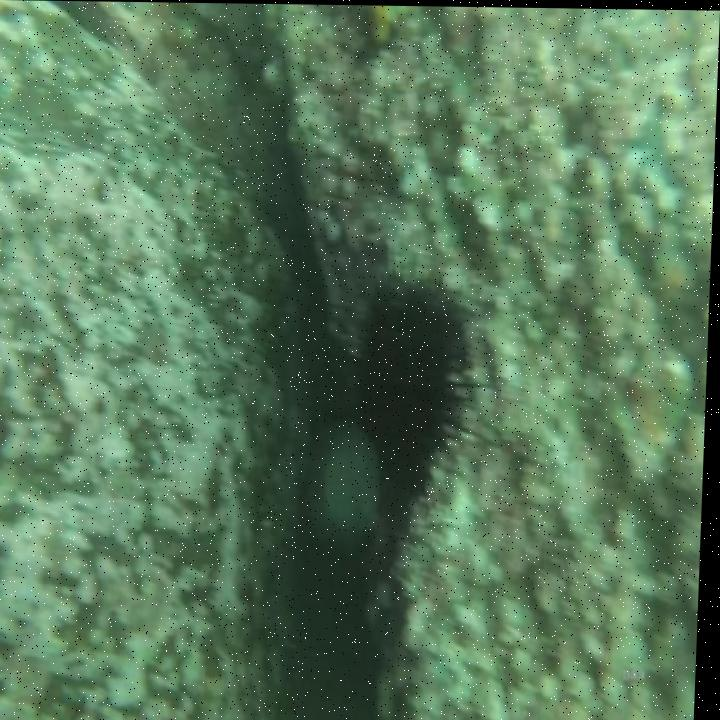echinus: (354, 269, 471, 507)
